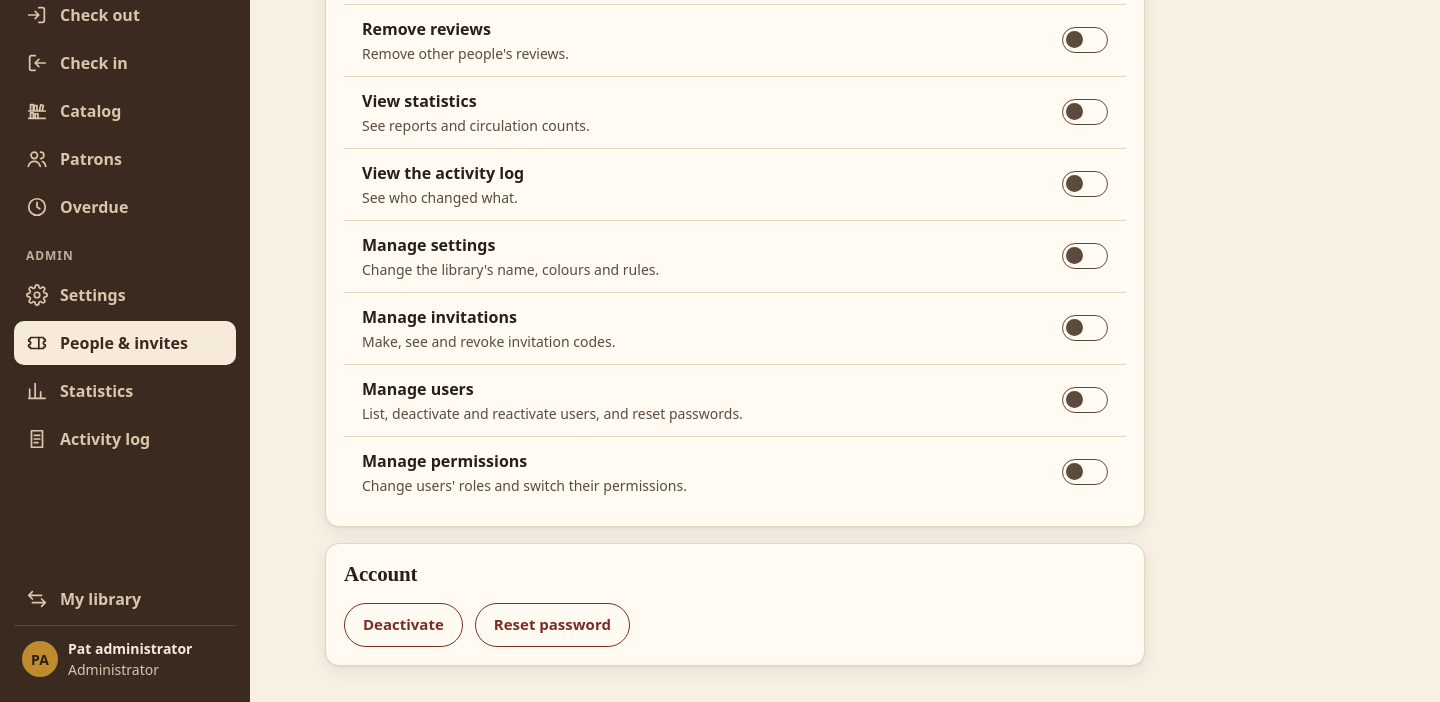
ACCESS-7 Administrator resets a password › Reset: a refusal is shown and no password appears
(page scrolled)
What coordinates should you click on to do the following:
click the button "Reset password"
I would click on:
 (552, 625)
Its box is [475,603,630,647].
(page scrolled)
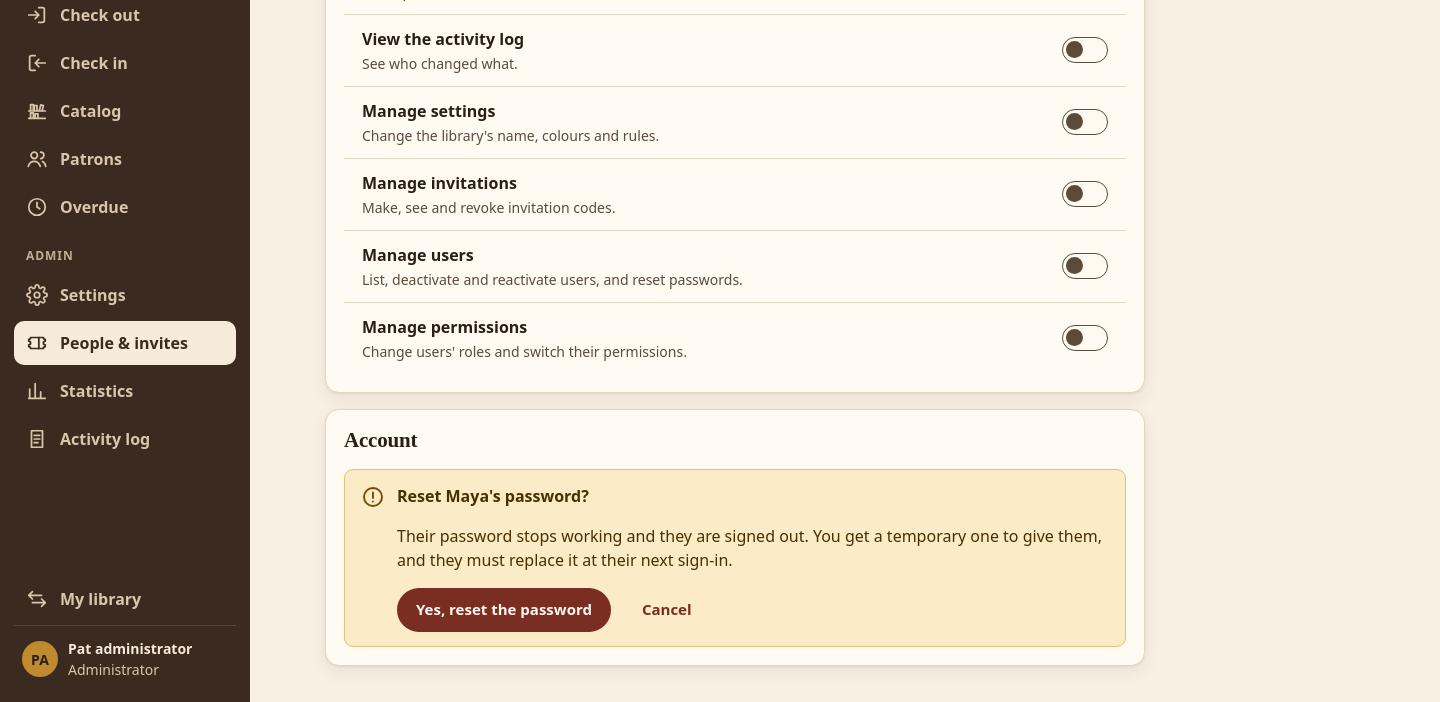
What coordinates should you click on to do the following:
click the button "Yes, reset the password"
I would click on:
 (504, 610)
Its box is [397,588,611,632].
(page scrolled)
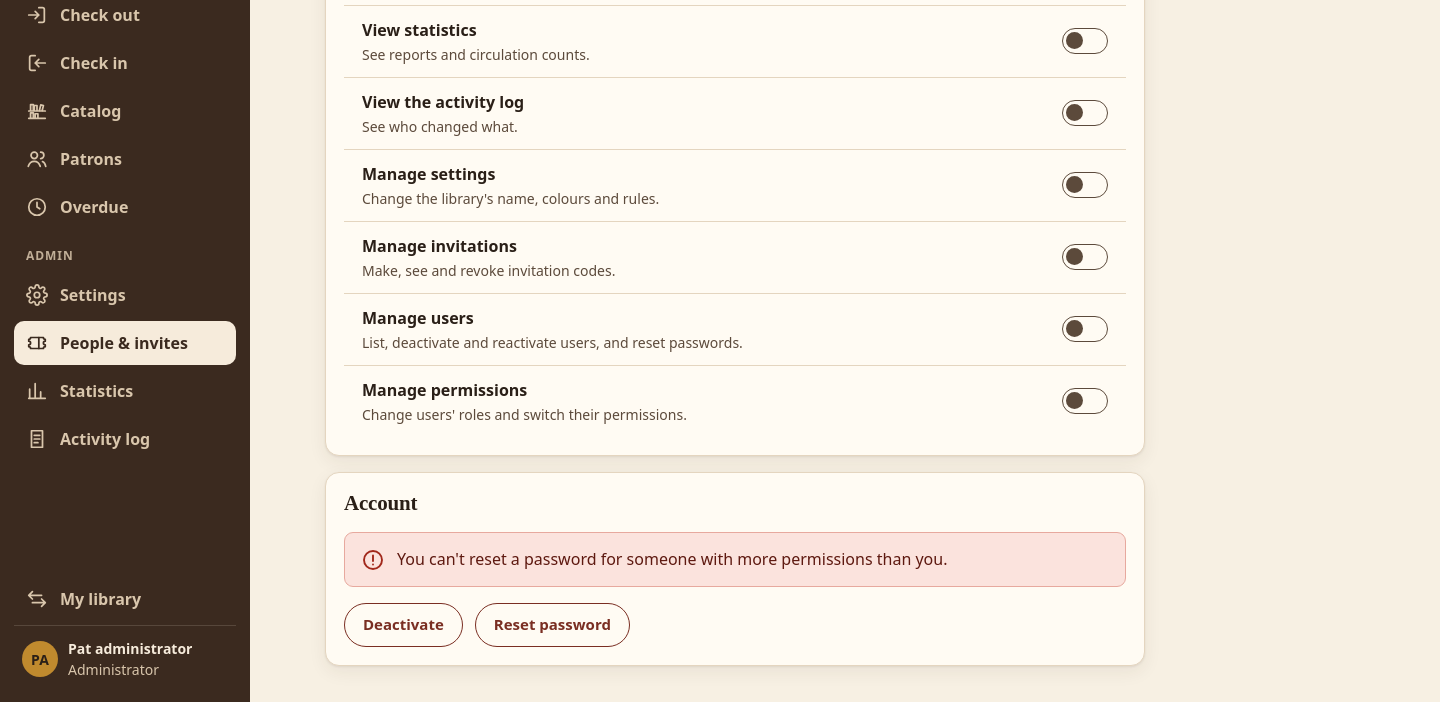
expect the text "more permissions than you" is shown: met, box [397,548,948,570]
